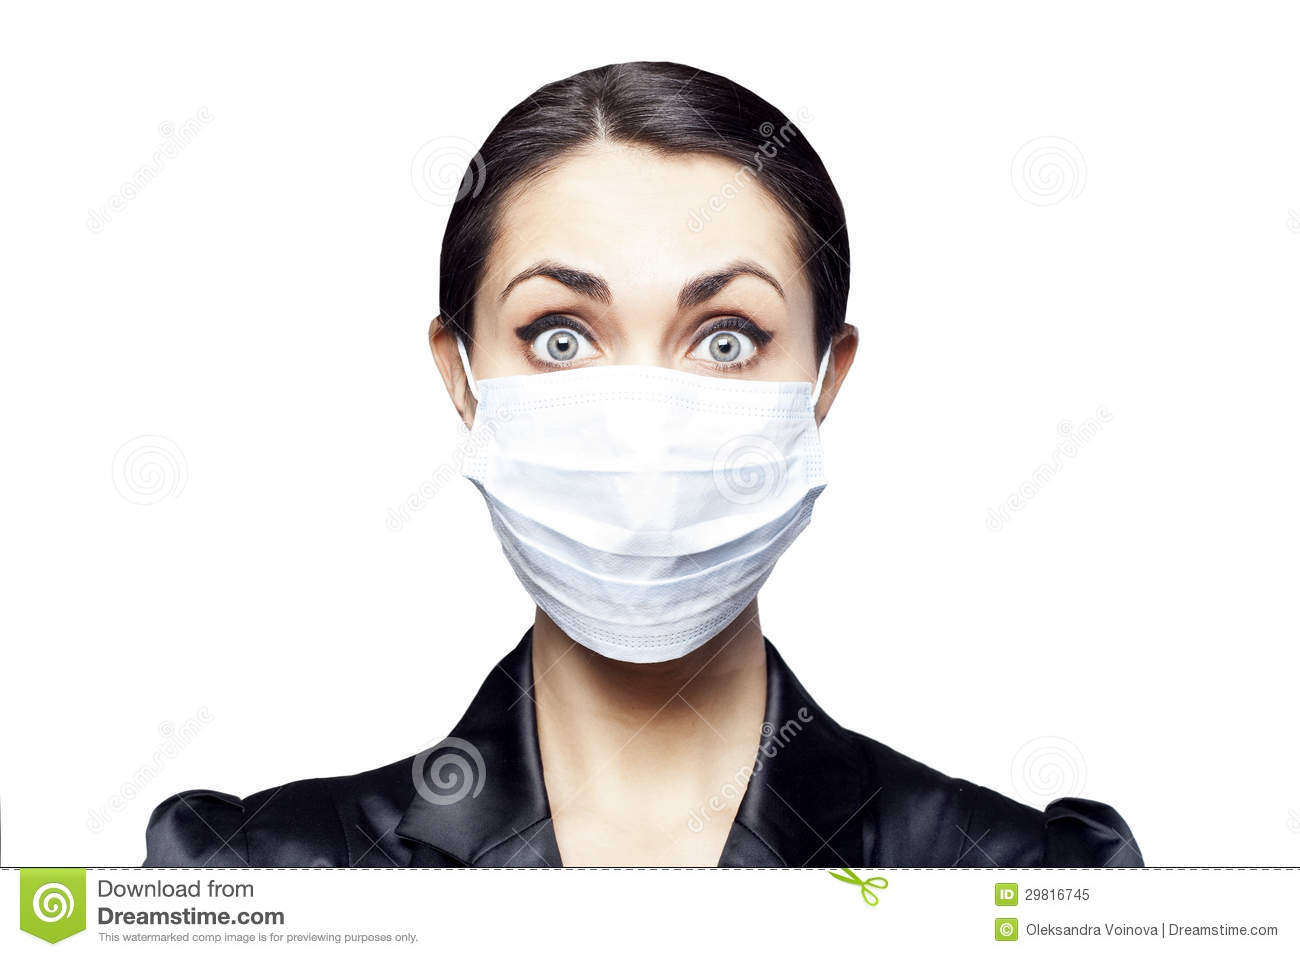mask: (460, 363, 825, 657)
